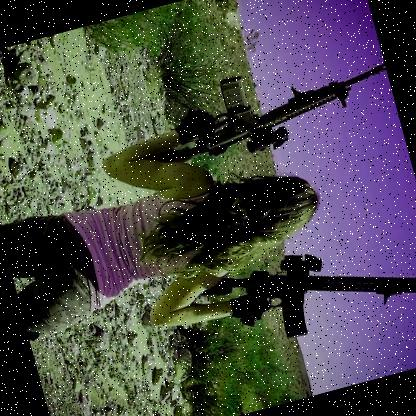rifle: (139, 35, 398, 177), (203, 221, 416, 362)
